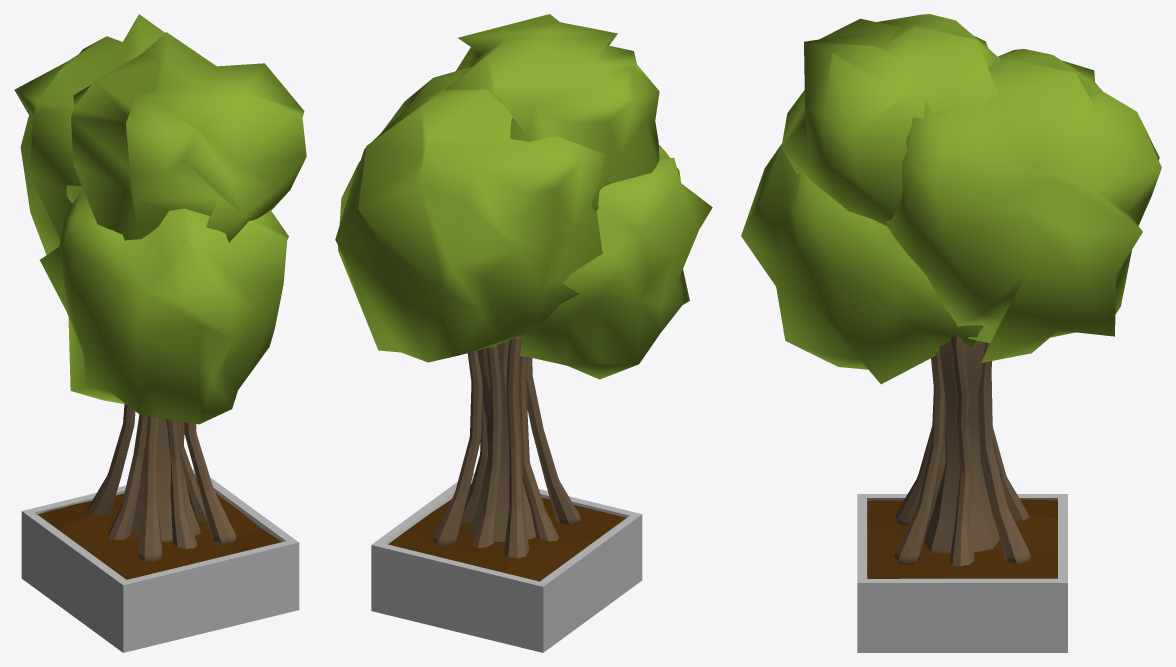
File: Pohon_Gayam.fbx
The picture shows the model from 3 angles, left to right: view 1: azimuth 30°, elevation 25°; view 2: azimuth 150°, elevation 25°; view 3: azimuth 270°, elevation 25°; orthographic projection. The views are drawn at different scales.
Visible parts, largest first — view 1: Daun Gayam, Cetakan Gayam; view 2: Daun Gayam, Cetakan Gayam; view 3: Daun Gayam, Cetakan Gayam.
Part boxes in pixels (x1,y1,x2,y2): Daun Gayam: [14, 14, 306, 561]; Cetakan Gayam: [21, 469, 299, 652]; Daun Gayam: [335, 14, 712, 558]; Cetakan Gayam: [371, 473, 642, 652]; Daun Gayam: [741, 14, 1161, 566]; Cetakan Gayam: [857, 494, 1067, 652].
Bounding box in the file's own units: 258 × 511 × 339.
Materials: 1 (1 with a texture image).
